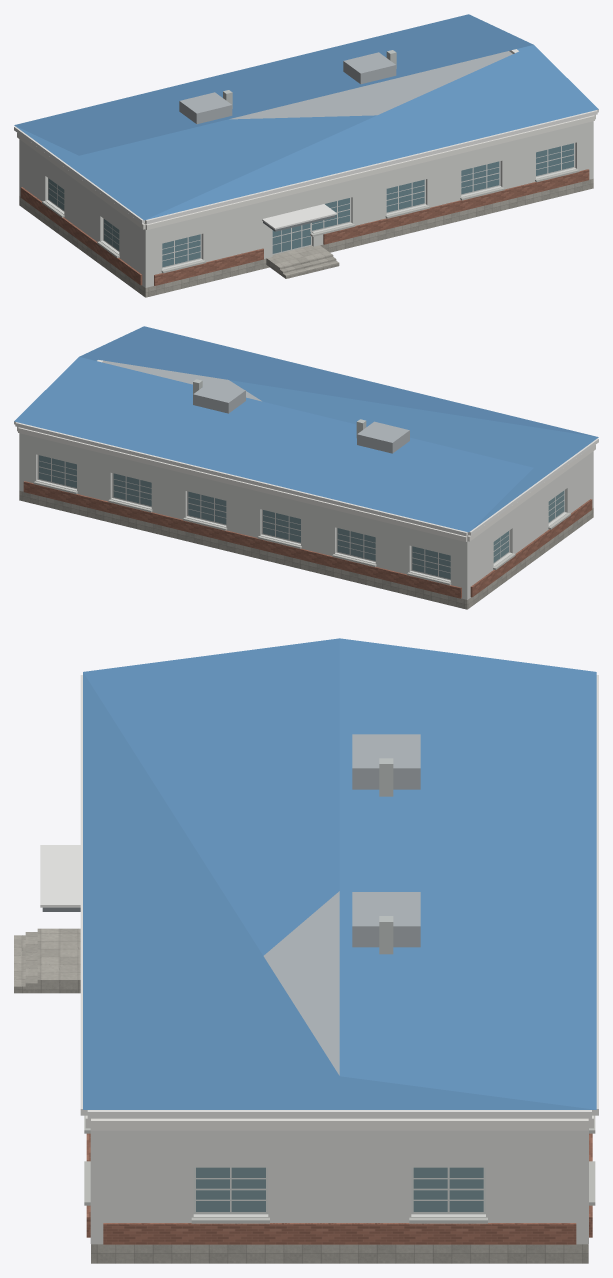
3 renders of one model, top to bottom at view 1: azimuth 30°, elevation 25°; view 2: azimuth 150°, elevation 25°; view 3: azimuth 270°, elevation 25°, orthographic. The views are drawn at different scales.
Visible parts, largest first — view 1: cafeteria__blueroof, cafeteria__panel, cafeteria__metalroof, cafeteria__brick, cafeteria__stone, cafeteria__glass, cafeteria__cap, cafeteria__band, cafeteria__frame, cafeteria__sill, cafeteria__stair-front, cafeteria__threshold-front (+1 smaller); view 2: cafeteria__blueroof, cafeteria__panel, cafeteria__brick, cafeteria__sideglass, cafeteria__stone, cafeteria__band, cafeteria__metalroof, cafeteria__cap, cafeteria__frame, cafeteria__sill; view 3: cafeteria__blueroof, cafeteria__panel, cafeteria__metalroof, cafeteria__brick, cafeteria__stone, cafeteria__cap, cafeteria__band, cafeteria__sideglass, cafeteria__stair-front, cafeteria__frame, cafeteria__threshold-front, cafeteria__sill (+1 smaller).
Boxes of the visible parts, <box> form: cafeteria__blueroof: <box>14,14,598,220</box>; cafeteria__panel: <box>19,121,593,287</box>; cafeteria__metalroof: <box>179,51,512,124</box>; cafeteria__brick: <box>20,169,589,285</box>; cafeteria__stone: <box>19,178,593,297</box>; cafeteria__glass: <box>162,143,573,267</box>; cafeteria__cap: <box>14,49,598,229</box>; cafeteria__band: <box>17,115,595,229</box>; cafeteria__frame: <box>48,143,575,268</box>; cafeteria__sill: <box>42,169,579,273</box>; cafeteria__stair-front: <box>277,253,339,278</box>; cafeteria__threshold-front: <box>266,245,329,272</box>; cafeteria__blueroof: <box>14,326,598,532</box>; cafeteria__panel: <box>19,433,593,599</box>; cafeteria__brick: <box>23,481,592,598</box>; cafeteria__sideglass: <box>39,455,564,579</box>; cafeteria__stone: <box>19,490,593,609</box>; cafeteria__band: <box>17,427,595,541</box>; cafeteria__metalroof: <box>104,361,409,453</box>; cafeteria__cap: <box>14,360,598,536</box>; cafeteria__frame: <box>37,455,564,580</box>; cafeteria__sill: <box>33,481,570,585</box>; cafeteria__blueroof: <box>83,638,596,1109</box>; cafeteria__panel: <box>90,1128,588,1244</box>; cafeteria__metalroof: <box>263,734,420,1075</box>; cafeteria__brick: <box>86,1133,592,1244</box>; cafeteria__stone: <box>91,1244,588,1263</box>; cafeteria__cap: <box>40,675,598,1118</box>; cafeteria__band: <box>85,1115,593,1130</box>; cafeteria__sideglass: <box>196,1167,483,1211</box>; cafeteria__stair-front: <box>14,928,49,993</box>; cafeteria__frame: <box>193,1167,485,1214</box>; cafeteria__threshold-front: <box>49,928,80,993</box>; cafeteria__sill: <box>84,1115,595,1223</box>.
Size of the model in its own units: 33.46 by 7.89 by 18.8.
Materials: 13 (2 with a texture image).
